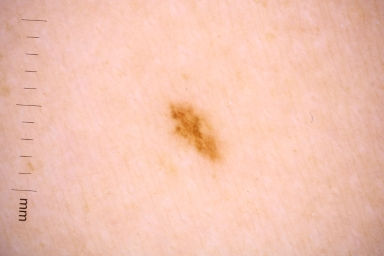melanoma: (172, 102, 229, 165)
